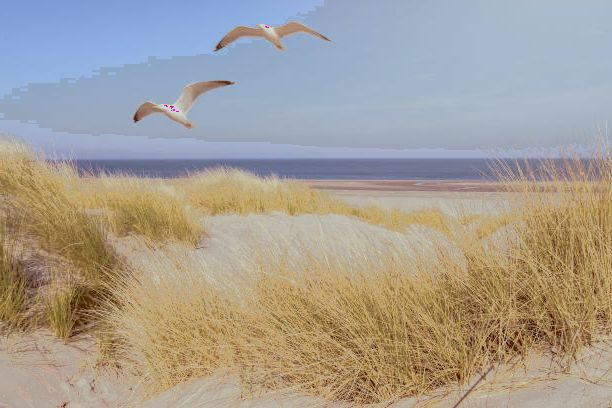Bird: (127, 72, 237, 135), (211, 18, 336, 54)
